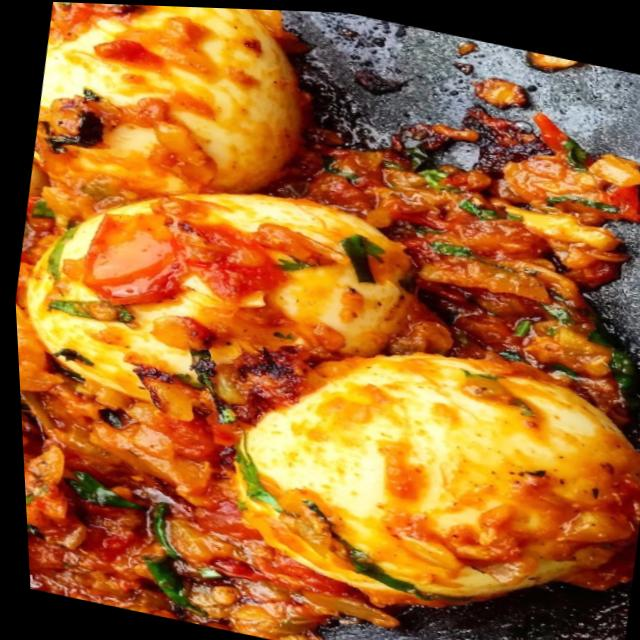EGG: (15, 2, 640, 640)
